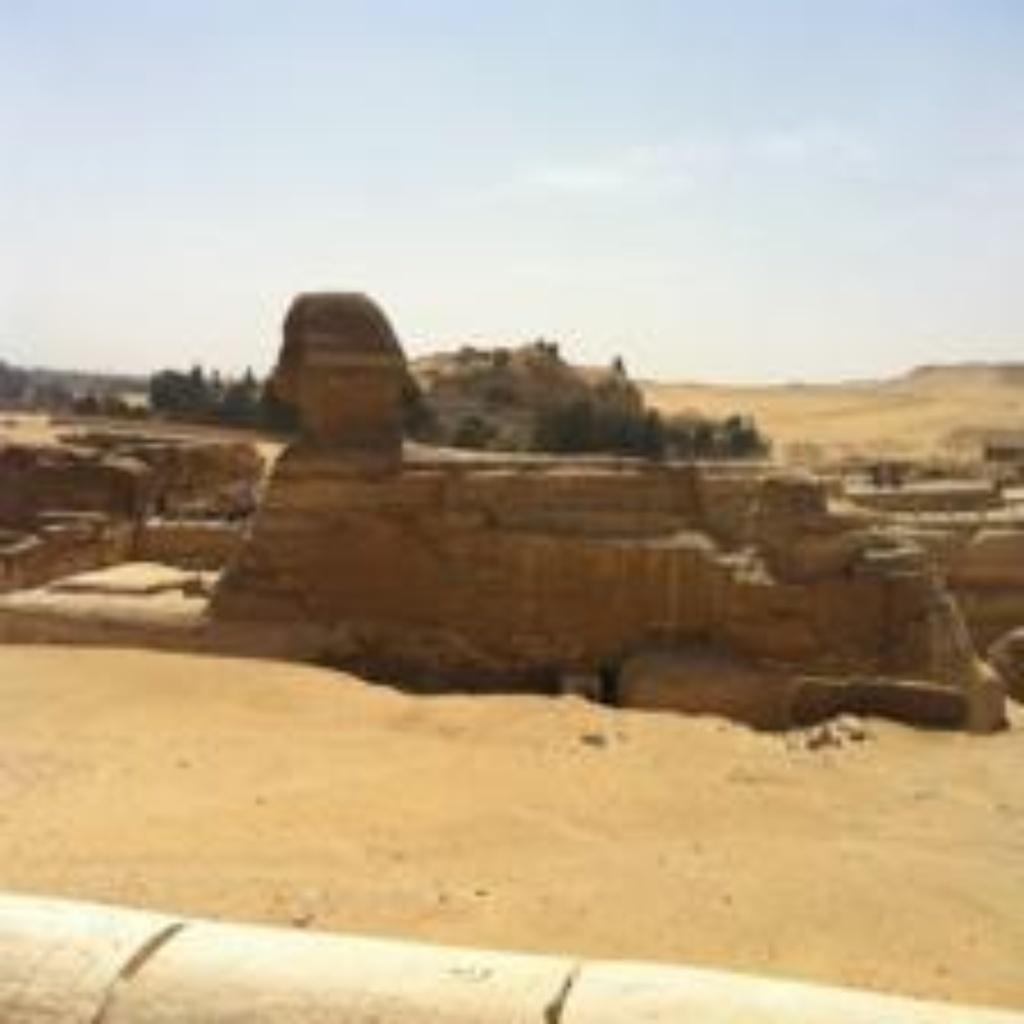Sphinx: (196, 283, 1014, 736)
